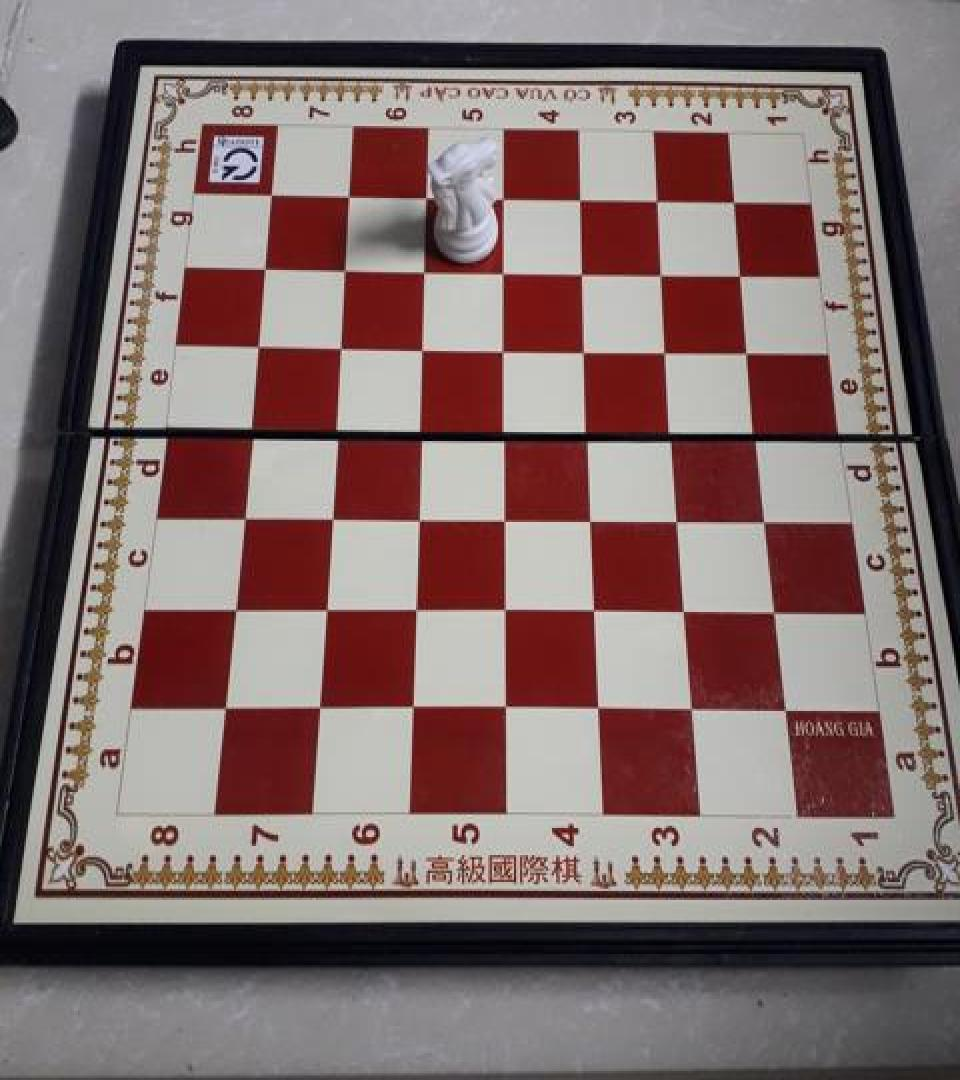xcorner: (208, 688, 240, 725), (302, 689, 334, 726), (396, 689, 428, 726), (489, 689, 521, 726), (583, 689, 615, 726), (675, 689, 707, 726), (768, 691, 800, 727), (217, 590, 249, 626), (308, 590, 340, 626), (399, 590, 431, 626), (489, 590, 521, 626), (579, 590, 611, 626), (668, 590, 700, 626), (758, 592, 790, 628), (226, 496, 258, 532), (314, 496, 346, 532), (401, 497, 433, 533), (488, 497, 520, 533), (575, 498, 607, 534), (662, 498, 694, 534), (748, 500, 780, 536), (234, 408, 266, 444), (319, 410, 351, 446), (403, 410, 435, 446), (488, 410, 520, 446), (572, 412, 604, 448), (656, 412, 688, 448), (740, 413, 772, 449), (241, 328, 273, 364), (323, 328, 355, 364), (487, 330, 519, 366), (569, 330, 601, 366), (650, 331, 682, 367), (731, 332, 763, 368), (248, 250, 280, 286), (328, 251, 360, 287), (408, 252, 440, 288), (487, 253, 519, 289), (566, 254, 598, 290), (645, 254, 677, 290), (724, 256, 756, 292), (255, 178, 287, 214), (332, 179, 364, 215), (409, 180, 441, 216), (487, 181, 519, 217), (563, 182, 595, 218), (640, 182, 672, 218), (716, 184, 748, 220), (406, 329, 438, 364)
